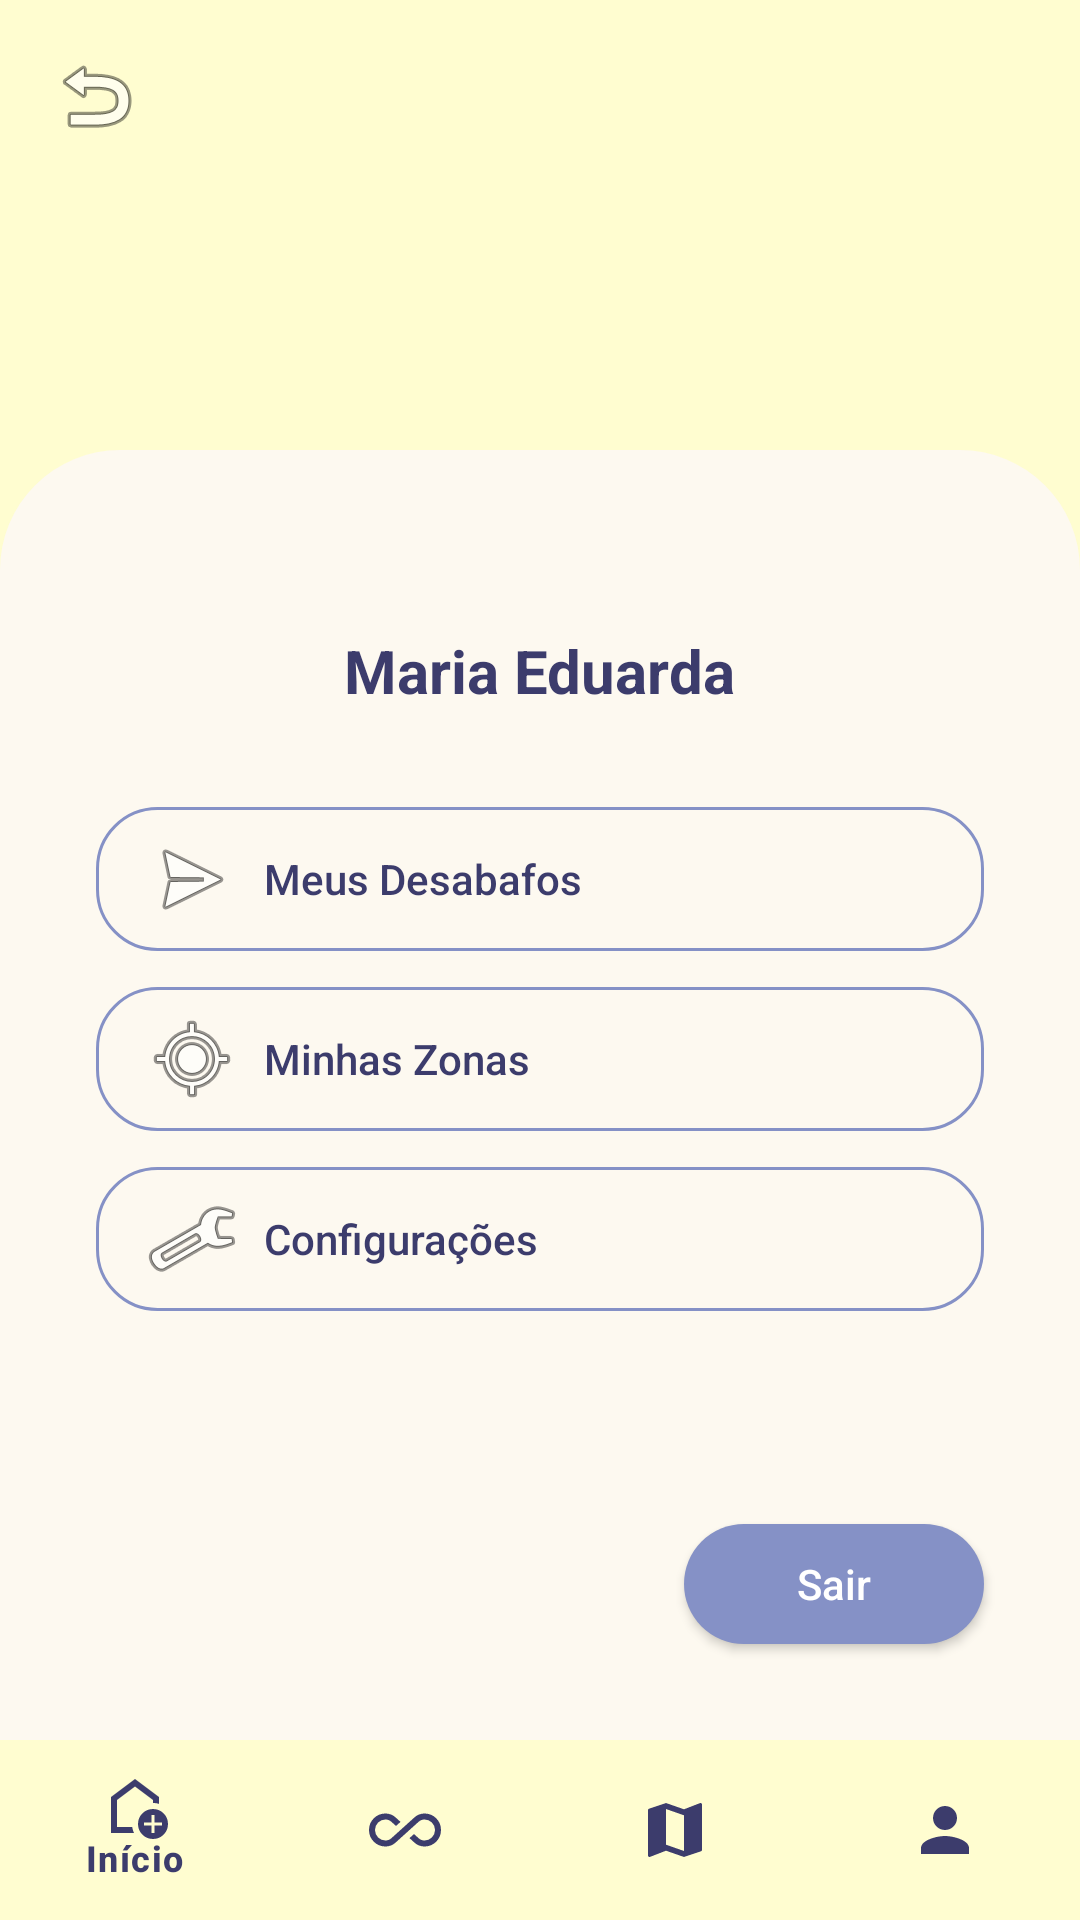

Point at icon controls on the screen. Image size 1080 x 1920, points as (x=x, y=y).
Voltar: (x=97, y=96)
